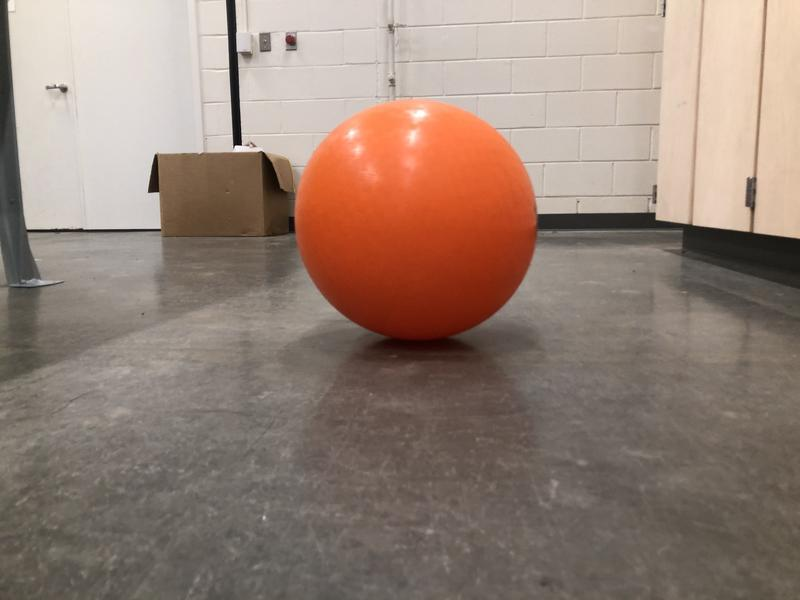ball: (292, 96, 539, 346)
